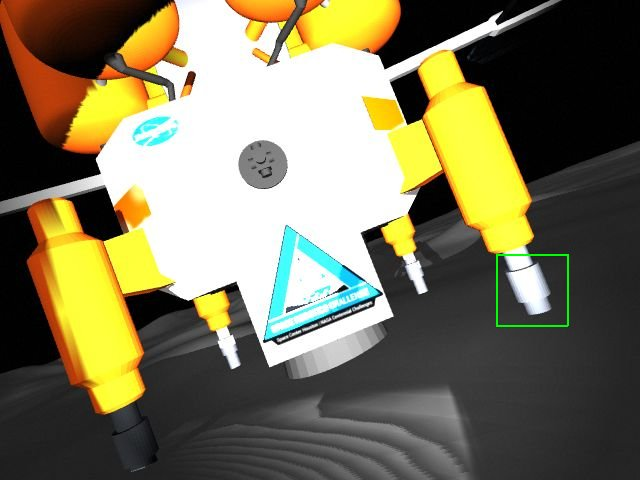basemarker: (263, 225, 384, 345)
